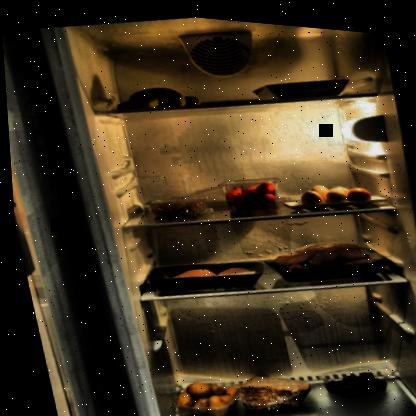banana: (111, 73, 205, 120)
blueberries: (311, 350, 391, 401)
chicken: (260, 222, 390, 286), (139, 245, 267, 300)
eggs: (293, 168, 373, 211)
potato: (160, 366, 242, 415)
shrimp: (144, 188, 208, 219)
strawberries: (217, 169, 279, 210)
